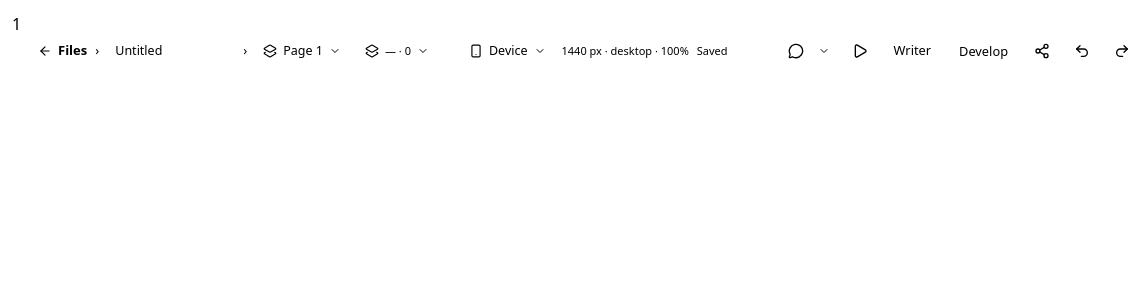
Test case: Topbar › zoom menu › Zoom to 50% and Zoom to 200% set the shared viewport to those exact levels
Click the button with test id "stage-readout" at {"x": 625, "y": 51}, box [562,43,689,59]
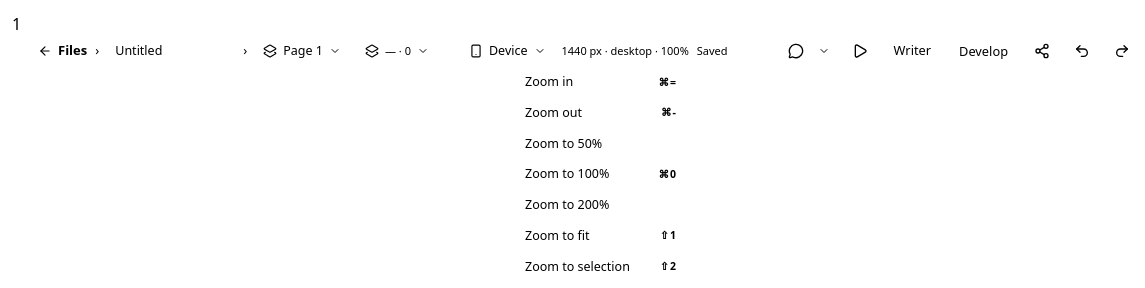
Click the menu item "Zoom to 50%" at {"x": 564, "y": 143}, box [525,134,602,152]
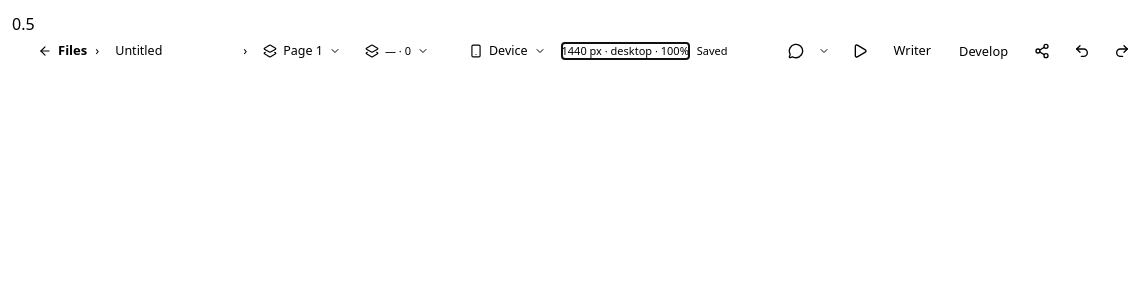
Now the text with test id "viewport-probe" reads "0.5", box [12,13,35,35]
Click the button with test id "stage-readout" at {"x": 625, "y": 51}, box [562,43,689,59]
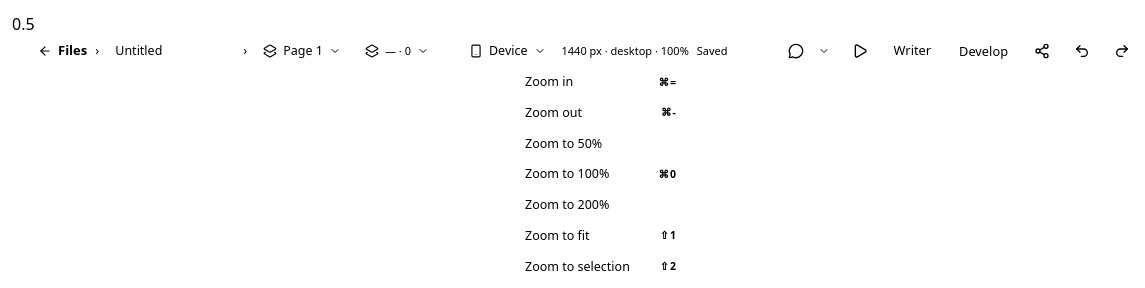
Click the menu item "Zoom to 200%" at {"x": 567, "y": 204}, box [525,196,609,213]
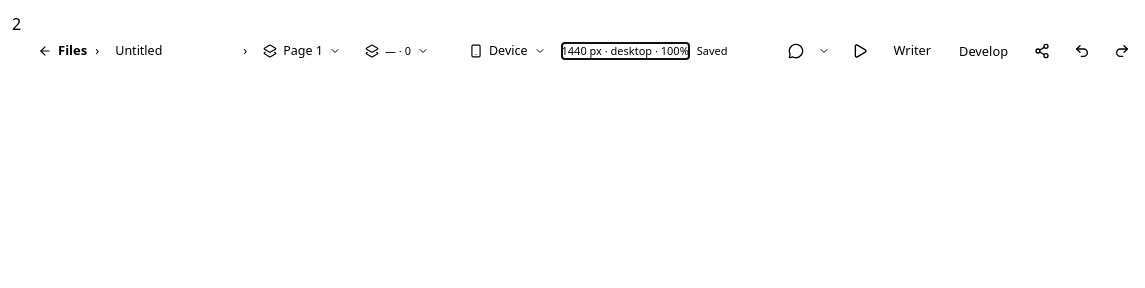
Now the text with test id "viewport-probe" reads "2", box [12,13,21,35]
